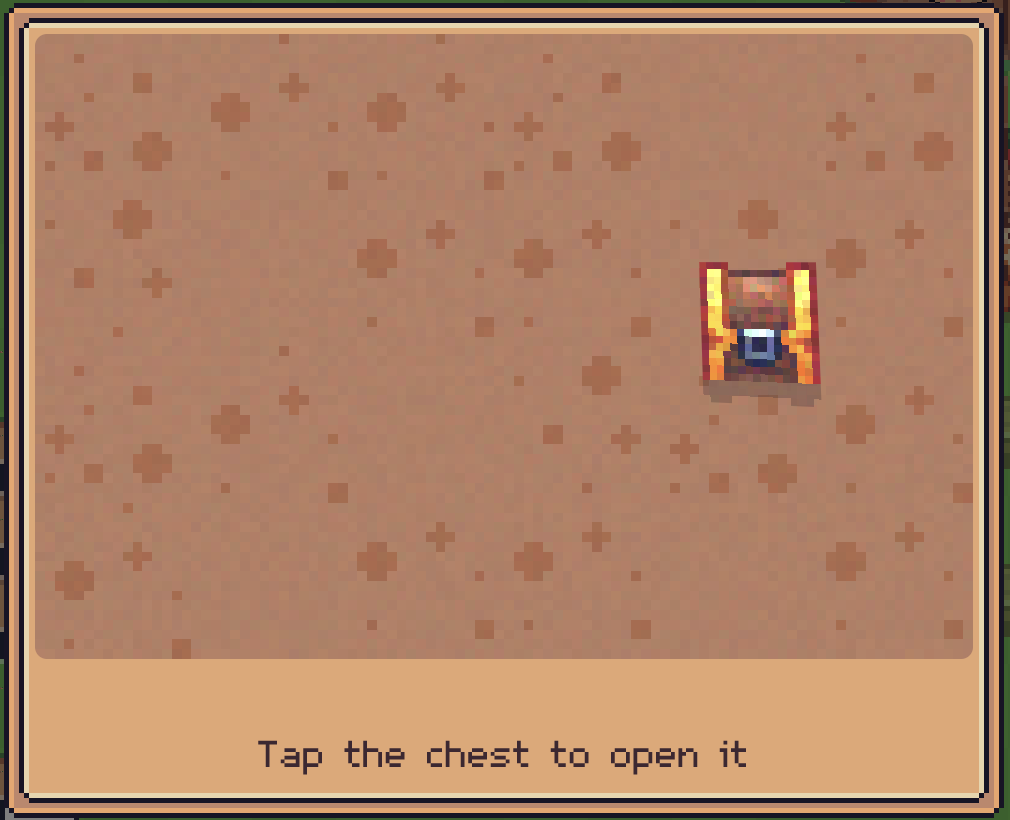capcha_chest: (697, 262, 820, 387)
